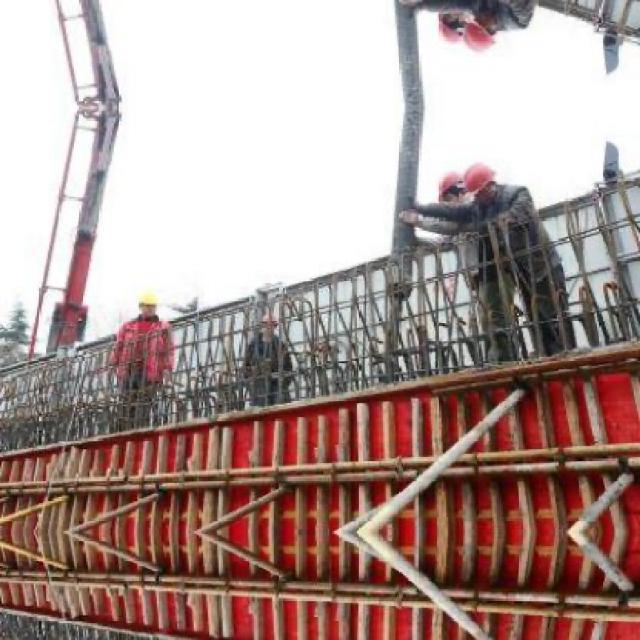helmet: (464, 160, 502, 202), (464, 12, 502, 54), (436, 165, 472, 208), (436, 5, 472, 48), (134, 285, 163, 320)
